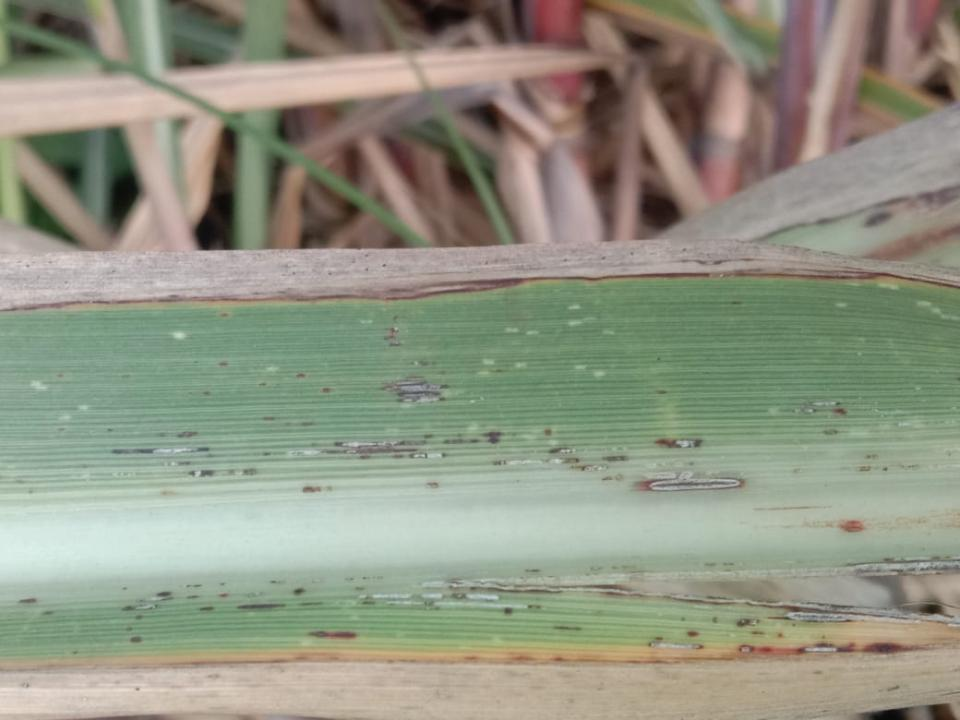Healthy: (727, 301, 745, 306), (629, 570, 649, 574)
RedRot: (826, 519, 868, 535)
Rust: (422, 580, 959, 625), (356, 591, 549, 619), (286, 429, 437, 460), (632, 467, 750, 494), (372, 374, 451, 404), (763, 611, 923, 625), (840, 560, 959, 577), (105, 445, 213, 458), (775, 400, 851, 417), (489, 456, 581, 468), (793, 639, 857, 655), (185, 467, 263, 479), (751, 503, 835, 511), (650, 437, 705, 449), (307, 630, 361, 642), (859, 641, 908, 654), (391, 450, 450, 460), (135, 590, 175, 604), (383, 326, 407, 349), (234, 602, 288, 612), (648, 641, 704, 649), (882, 556, 945, 563), (481, 428, 506, 445), (120, 602, 162, 612), (570, 463, 610, 473), (340, 575, 385, 583), (441, 437, 481, 446), (408, 358, 444, 368), (599, 455, 635, 465), (599, 470, 624, 483), (299, 484, 335, 493), (242, 589, 266, 601), (546, 446, 578, 455), (701, 560, 737, 568), (155, 460, 195, 467), (174, 429, 200, 439), (737, 619, 762, 629), (552, 624, 583, 632), (735, 643, 757, 654), (296, 600, 328, 607), (490, 366, 510, 377), (127, 634, 146, 645), (541, 426, 557, 439), (14, 597, 39, 605), (650, 387, 670, 397), (423, 480, 441, 490), (610, 564, 639, 570), (289, 587, 308, 596), (299, 420, 318, 429), (267, 578, 291, 585), (214, 311, 232, 320), (822, 428, 842, 436), (684, 629, 700, 639), (899, 463, 921, 470), (308, 577, 326, 585), (183, 581, 203, 588), (294, 371, 308, 381), (318, 387, 335, 395), (750, 630, 767, 638), (522, 568, 544, 574), (39, 610, 55, 618), (199, 605, 215, 613), (863, 453, 879, 461), (216, 360, 230, 369), (202, 388, 213, 399), (587, 565, 606, 571), (185, 593, 201, 600), (216, 592, 230, 600), (352, 585, 367, 592), (391, 313, 401, 323), (57, 372, 68, 381), (13, 478, 27, 485), (55, 426, 67, 434), (857, 466, 873, 472), (132, 615, 145, 622), (262, 415, 277, 421), (882, 463, 891, 473), (710, 615, 720, 624), (356, 454, 373, 459), (120, 372, 130, 380), (283, 420, 293, 428), (256, 381, 267, 388), (777, 630, 785, 639), (262, 450, 272, 457), (437, 369, 448, 375), (652, 635, 665, 640), (104, 427, 113, 434), (309, 440, 318, 447), (119, 586, 129, 592), (125, 626, 134, 632), (791, 468, 800, 474), (70, 650, 80, 655), (217, 581, 227, 586), (157, 432, 165, 438), (680, 615, 686, 622), (192, 359, 200, 364), (820, 635, 827, 640), (790, 623, 797, 627), (944, 556, 953, 559)
